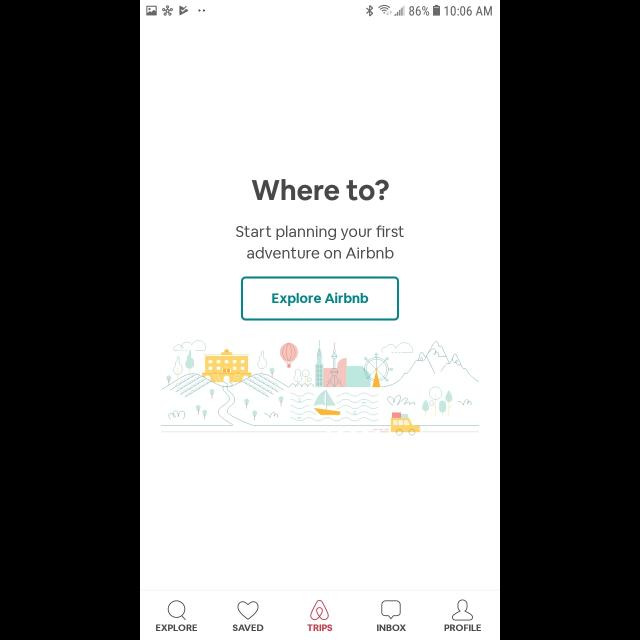icon: (452, 600, 473, 620), (381, 600, 401, 620), (238, 600, 258, 620), (168, 600, 186, 620)
image: (161, 340, 479, 436), (310, 600, 330, 620)
text: (236, 225, 404, 259), (251, 179, 389, 201), (156, 624, 198, 632), (444, 624, 482, 632), (232, 624, 264, 632), (378, 624, 407, 632), (308, 624, 332, 632)
textbutton: (241, 276, 399, 320)
uppertaskbar: (140, 1, 500, 18)
